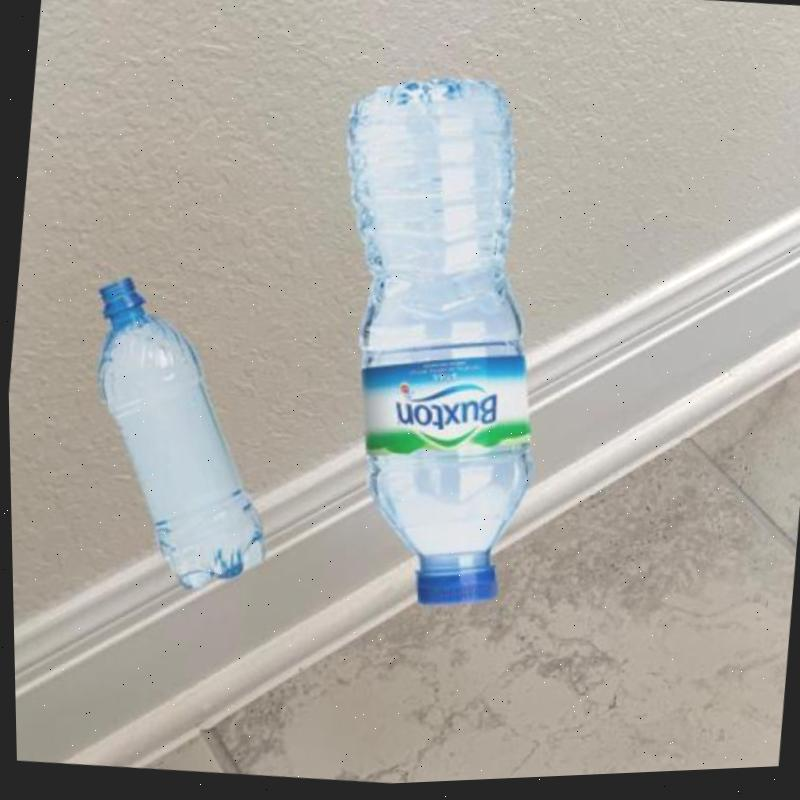botella: (293, 65, 570, 622), (63, 268, 291, 603)
